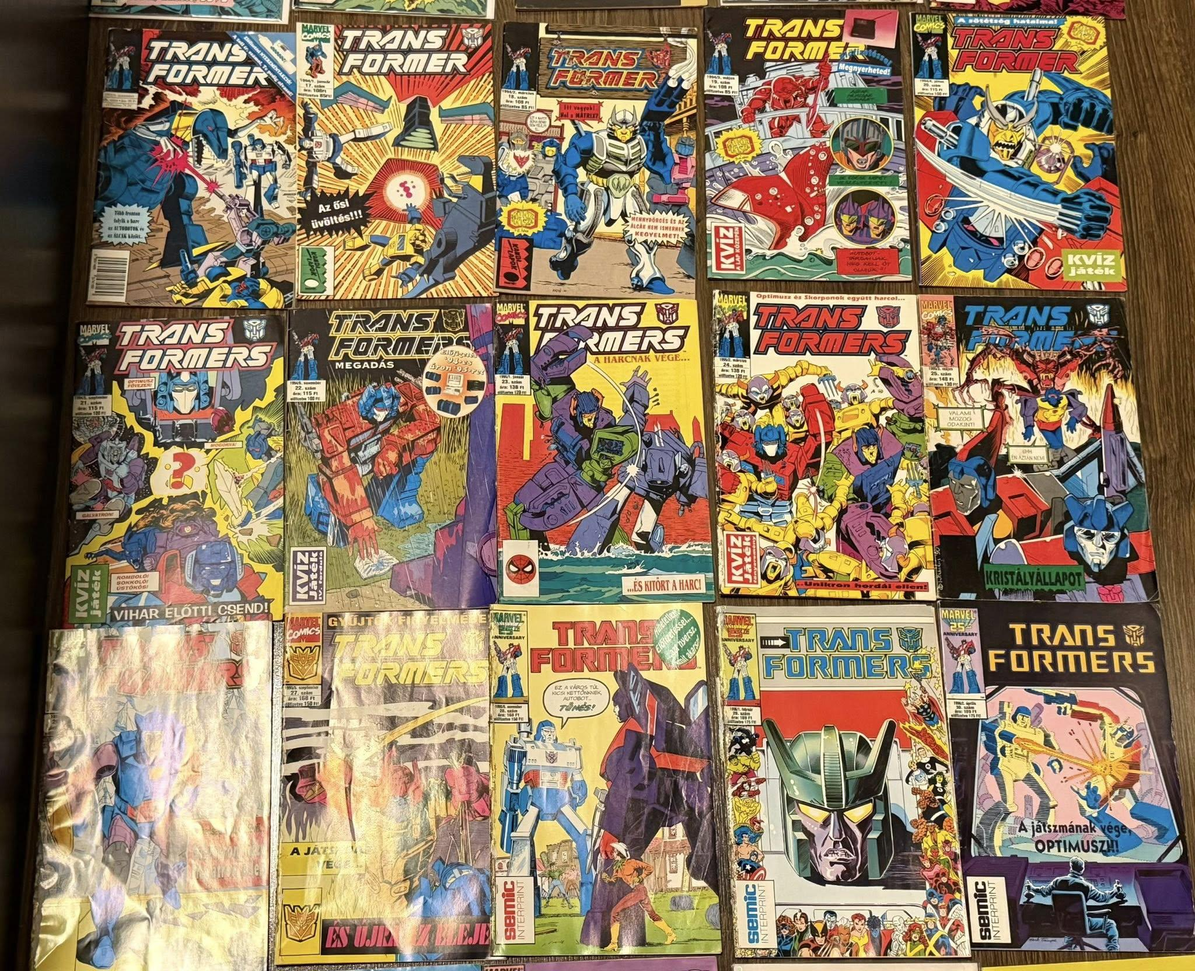comic: (937, 582, 1195, 971), (715, 601, 969, 963), (32, 618, 276, 971), (489, 603, 723, 957), (918, 283, 1158, 613), (274, 610, 491, 965), (711, 286, 935, 605), (64, 312, 287, 630), (494, 298, 713, 604), (283, 304, 497, 611), (86, 25, 302, 310), (912, 11, 1125, 293), (701, 4, 913, 284), (293, 18, 498, 301), (496, 22, 699, 299)
